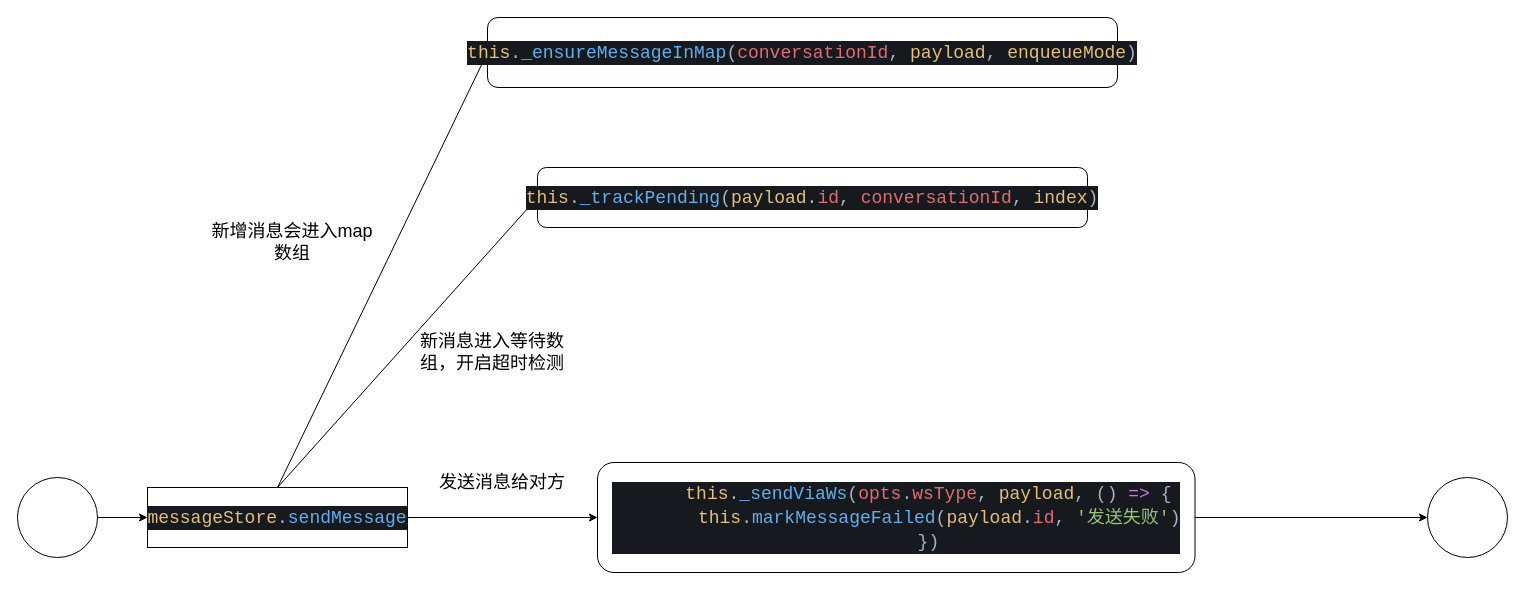
The diagram is 1525 pixels wide and 590 high, and some of its shapes have lost their labels. Here are the shapes that lost their labels. From the top down, the centre of each, then its label:
At (57,517): "用户A".
At (1467,517): "用户B".
